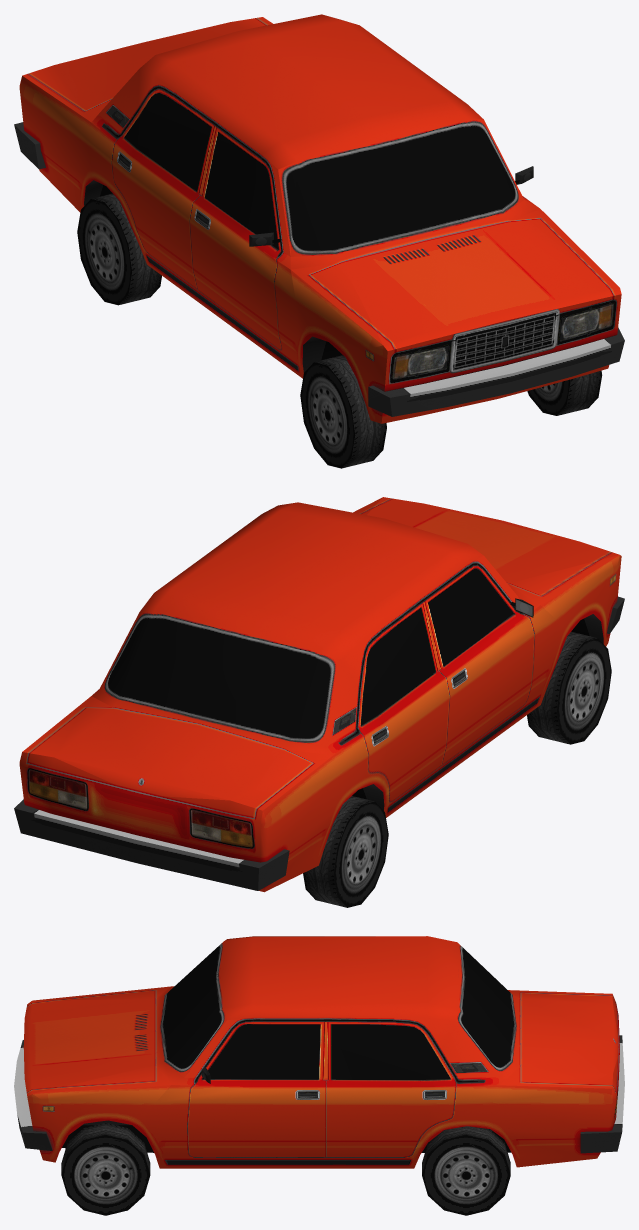
The model's file is 16_lada_2107.glb.
The picture shows the model from 3 angles, top to bottom: view 1: azimuth 30°, elevation 25°; view 2: azimuth 150°, elevation 25°; view 3: azimuth 270°, elevation 25°; orthographic projection. The views are drawn at different scales.
Parts seen in each view (by area): view 1: Vaz2107.001_108, vaz2107wheel_104, vaz2107wheel.003_107, vaz2107wheel.001_105; view 2: Vaz2107.001_108, vaz2107wheel.003_107, vaz2107wheel_104; view 3: Vaz2107.001_108, vaz2107wheel.001_105, vaz2107wheel.002_106.
Boxes of the visible parts, x1=… form: Vaz2107.001_108: x1=14, y1=14, x2=624, y2=423; vaz2107wheel_104: x1=300, y1=355, x2=386, y2=468; vaz2107wheel.003_107: x1=77, y1=193, x2=161, y2=305; vaz2107wheel.001_105: x1=527, y1=370, x2=602, y2=415; Vaz2107.001_108: x1=14, y1=497, x2=624, y2=892; vaz2107wheel.003_107: x1=303, y1=796, x2=388, y2=907; vaz2107wheel_104: x1=527, y1=631, x2=611, y2=744; Vaz2107.001_108: x1=14, y1=936, x2=624, y2=1168; vaz2107wheel.001_105: x1=61, y1=1123, x2=150, y2=1215; vaz2107wheel.002_106: x1=422, y1=1126, x2=510, y2=1215.
Size of the model in its own units: 1.78 by 1.5 by 4.1.
2 materials, 1 textured.
